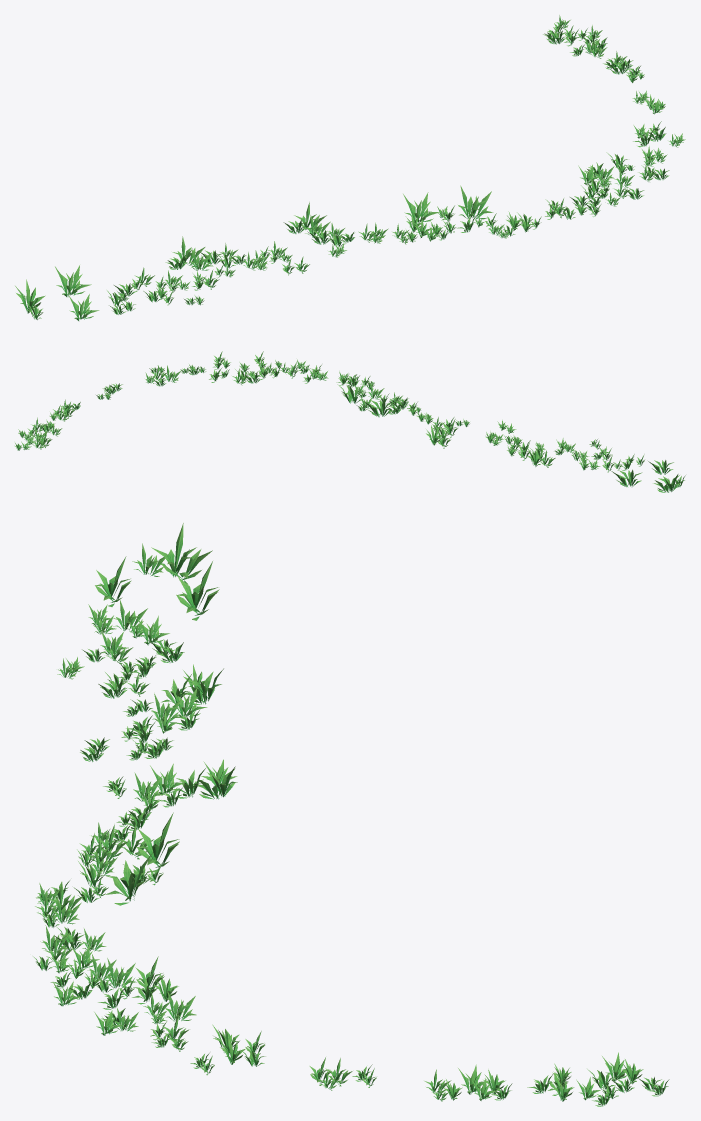
File: area_06_1.FBX
3 renders of one model, top to bottom at view 1: azimuth 30°, elevation 25°; view 2: azimuth 150°, elevation 25°; view 3: azimuth 270°, elevation 25°, orthographic. The views are drawn at different scales.
Parts seen in each view (by area): view 1: area_06_1; view 2: area_06_1; view 3: area_06_1.
Part boxes in pixels (x1,y1,x2,y2): area_06_1: [15, 15, 685, 320]; area_06_1: [15, 351, 685, 492]; area_06_1: [33, 523, 669, 1106].
Size of the model in its own units: 51.23 by 2.02 by 25.47.
